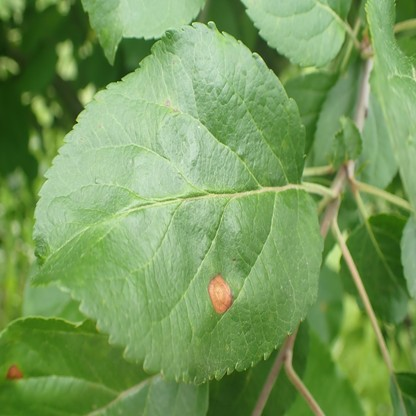frogeye_leaf_spot: (208, 273, 233, 314), (6, 365, 23, 378)
